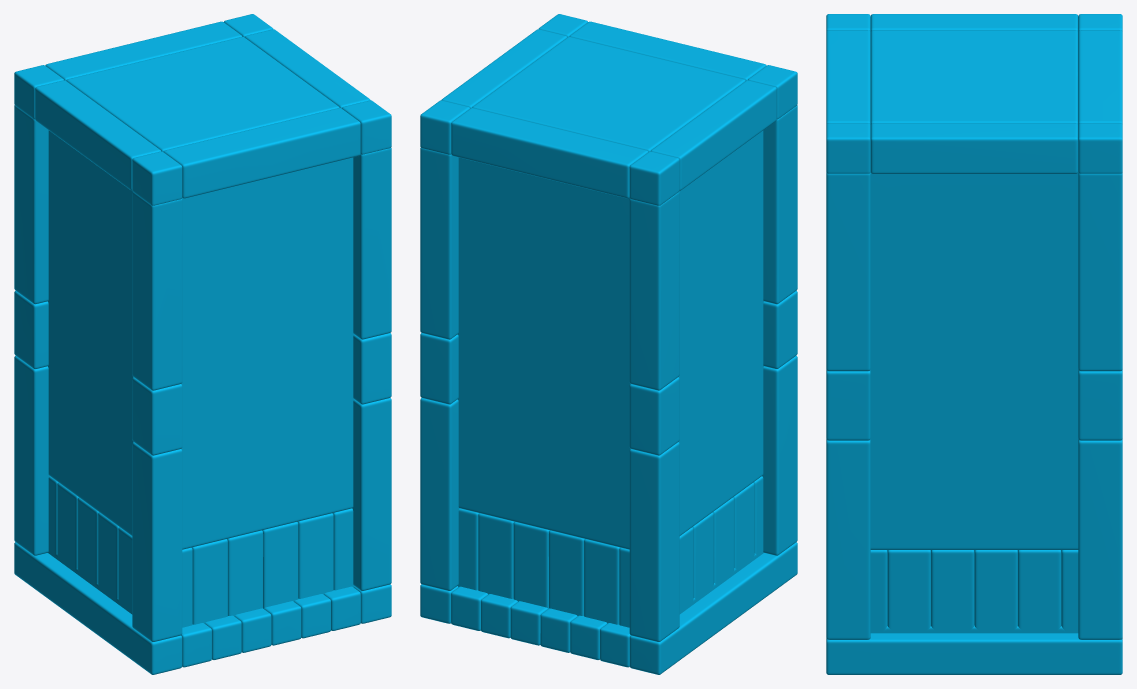
File: SM_Wood_Body_07.fbx
3 renders of one model, left to right at view 1: azimuth 30°, elevation 25°; view 2: azimuth 150°, elevation 25°; view 3: azimuth 270°, elevation 25°, orthographic. The views are drawn at different scales.
Visible parts, largest first — view 1: SM_Wood_Body_07; view 2: SM_Wood_Body_07; view 3: SM_Wood_Body_07.
Boxes of the visible parts, left/top/right/bottom form: SM_Wood_Body_07: left=14, top=14, right=391, bottom=674; SM_Wood_Body_07: left=420, top=14, right=797, bottom=674; SM_Wood_Body_07: left=826, top=14, right=1122, bottom=674.
Size of the model in its own units: 2.5 by 5 by 2.5.
